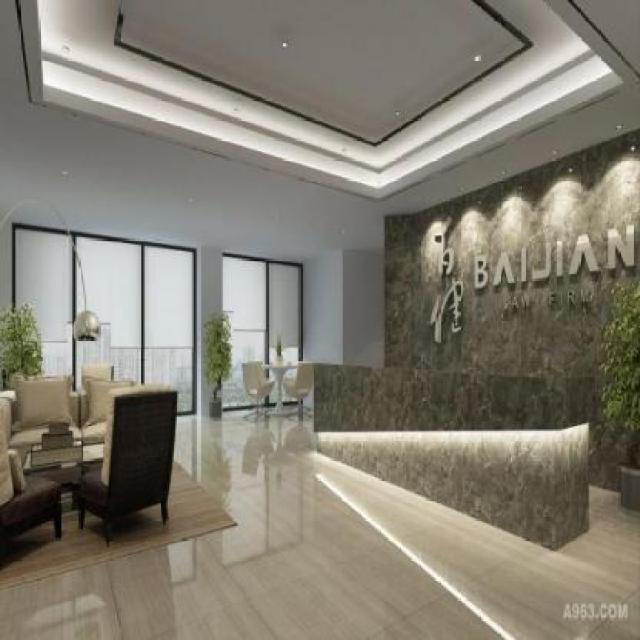frontdesk: (306, 352, 597, 560)
